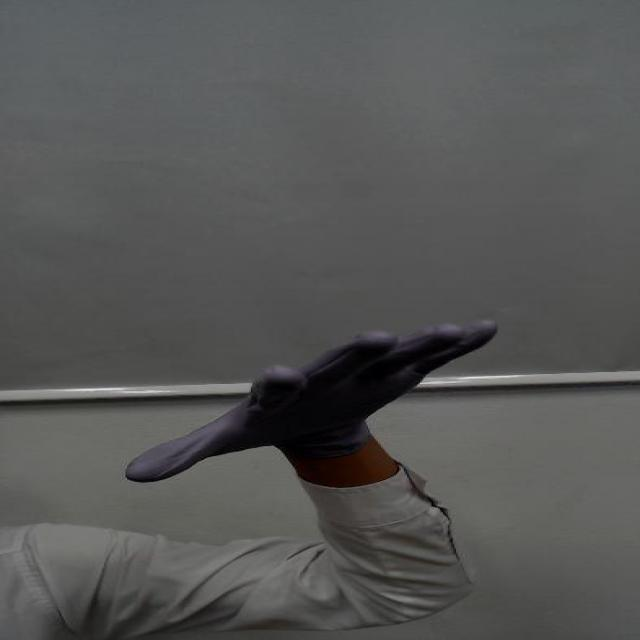with_gloves: (97, 305, 516, 483)
